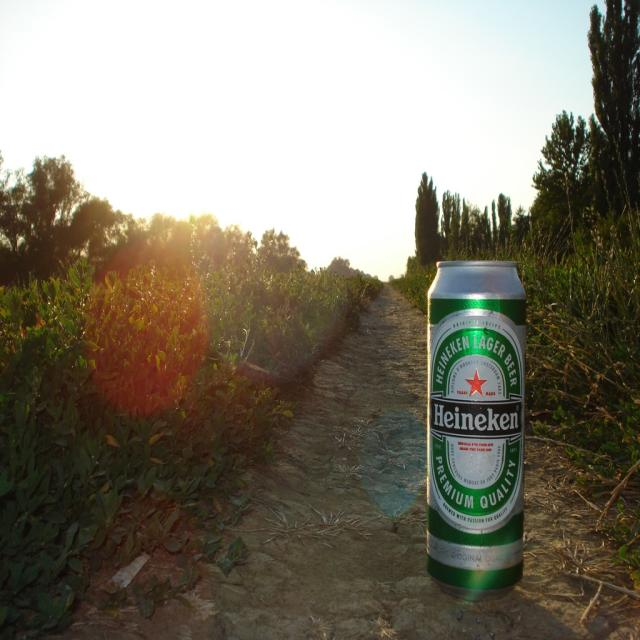heineken: (427, 310, 527, 535)
